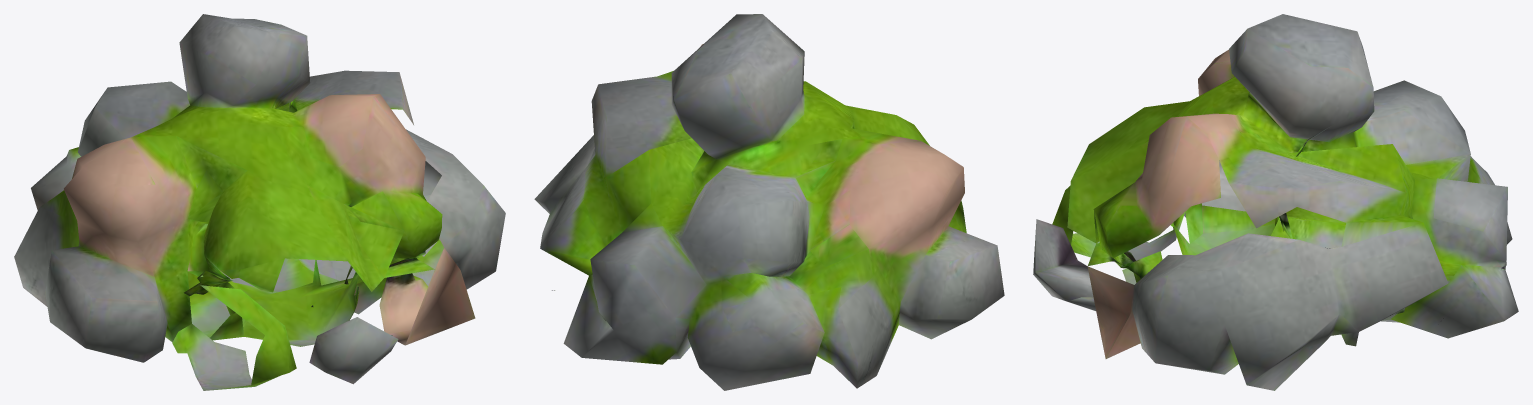
Rendered from p_rock_small.glb.
3 renders of one model, left to right at view 1: azimuth 30°, elevation 25°; view 2: azimuth 150°, elevation 25°; view 3: azimuth 270°, elevation 25°, orthographic.
Parts seen in each view (by area): view 1: Mesh_0; view 2: Mesh_0; view 3: Mesh_0.
Part boxes in pixels (box(x1,y1,x2,y2)): Mesh_0: box(14, 14, 505, 390); Mesh_0: box(534, 14, 1004, 390); Mesh_0: box(1033, 14, 1518, 390).
Bounding box in the file's own units: 0.1575 × 0.1 × 0.1562.
1 material, 1 textured.
